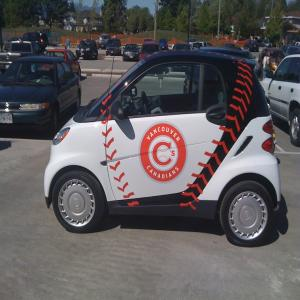Vehicle-registration-plate: (1, 114, 14, 127)
